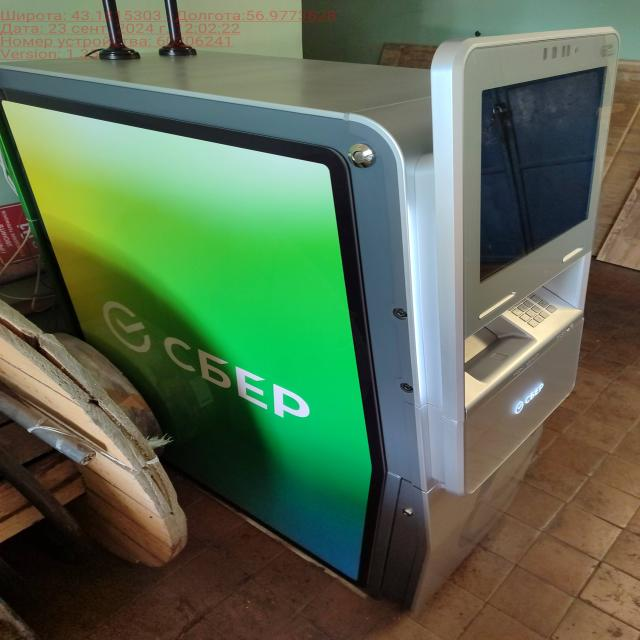bank: (0, 27, 640, 614)
